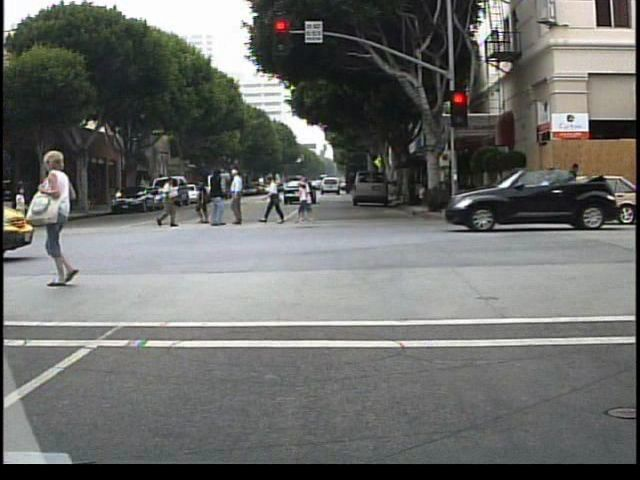person: (40, 148, 96, 294), (204, 167, 231, 232), (229, 166, 256, 227), (151, 173, 179, 231), (264, 173, 290, 227), (14, 193, 44, 239), (561, 156, 584, 215), (194, 176, 218, 228), (12, 181, 32, 222)
